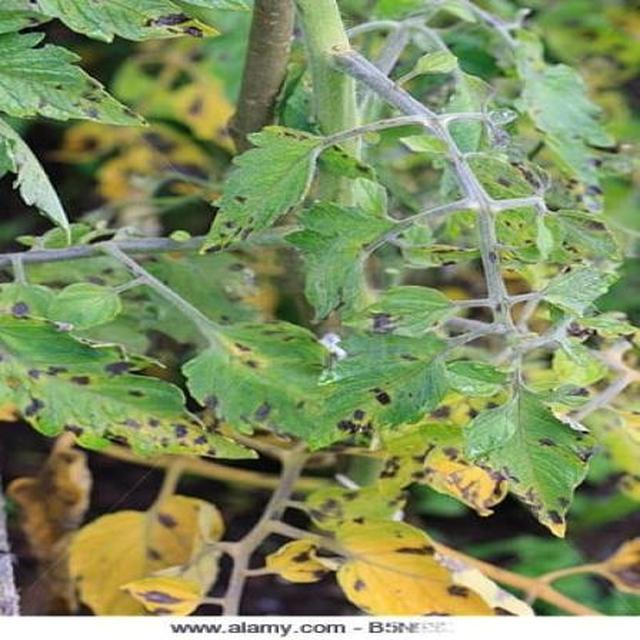Early Blight Leaf: (109, 30, 640, 640)
